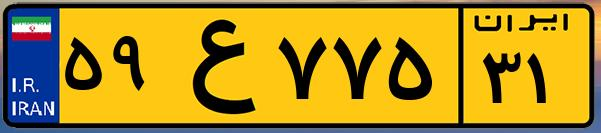1: (525, 38, 570, 115)
3: (475, 38, 525, 113)
5: (385, 28, 445, 110), (57, 26, 110, 100)
7: (270, 28, 330, 110), (330, 28, 385, 110)
9: (110, 28, 158, 98)
ع: (158, 12, 270, 120)
